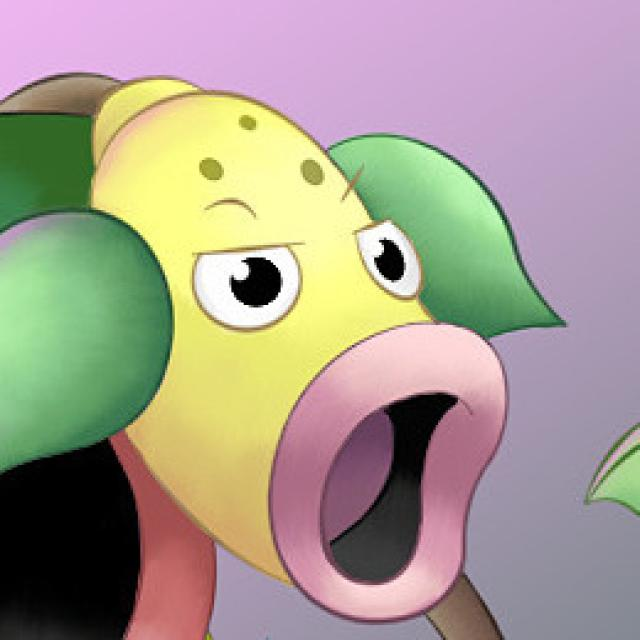Weepinbell: (77, 79, 510, 617)
